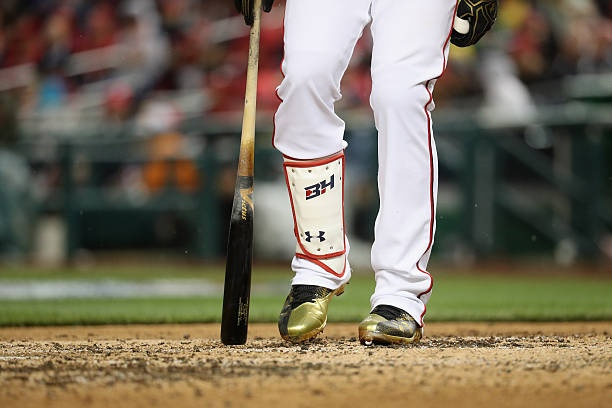bita: (217, 5, 269, 344)
